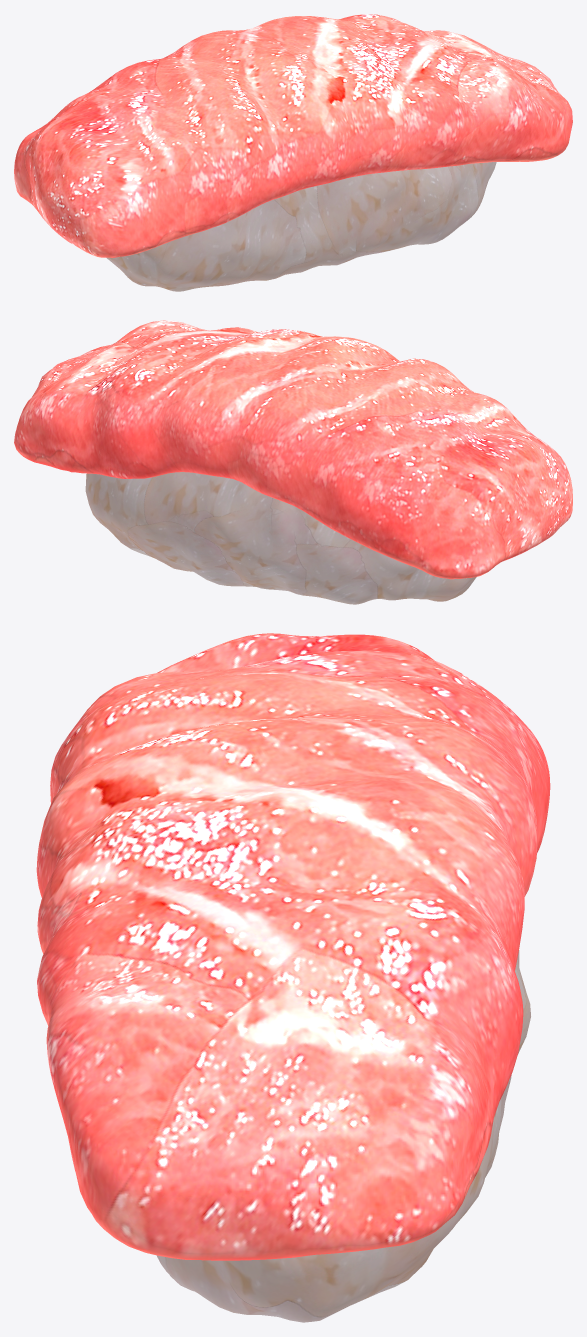
File: sushi.glb
3 renders of one model, top to bottom at view 1: azimuth 30°, elevation 25°; view 2: azimuth 150°, elevation 25°; view 3: azimuth 270°, elevation 25°, orthographic. The views are drawn at different scales.
Parts seen in each view (by area): view 1: neta11_0, sumeshi11_1; view 2: neta11_0, sumeshi11_1; view 3: neta11_0, sumeshi11_1.
Part boxes in pixels (bbox=[...]): neta11_0: bbox=[14, 14, 572, 257]; sumeshi11_1: bbox=[106, 162, 496, 291]; neta11_0: bbox=[14, 320, 572, 579]; sumeshi11_1: bbox=[85, 472, 476, 604]; neta11_0: bbox=[36, 633, 550, 1260]; sumeshi11_1: bbox=[156, 950, 530, 1322].
Size of the model in its own units: 0.1275 by 0.0529 by 0.0573.
2 materials, 2 textured.
